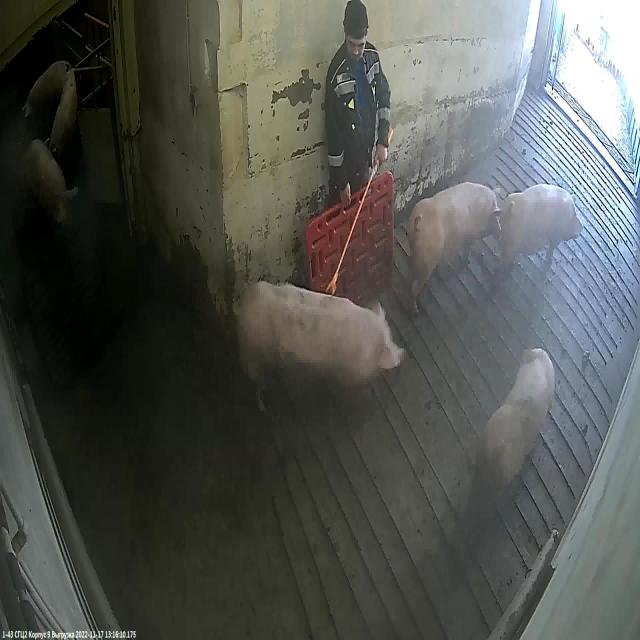pig: (234, 282, 402, 405), (473, 349, 556, 522), (408, 184, 502, 311), (502, 184, 582, 282), (26, 140, 76, 230), (24, 60, 72, 122), (50, 78, 76, 163)
